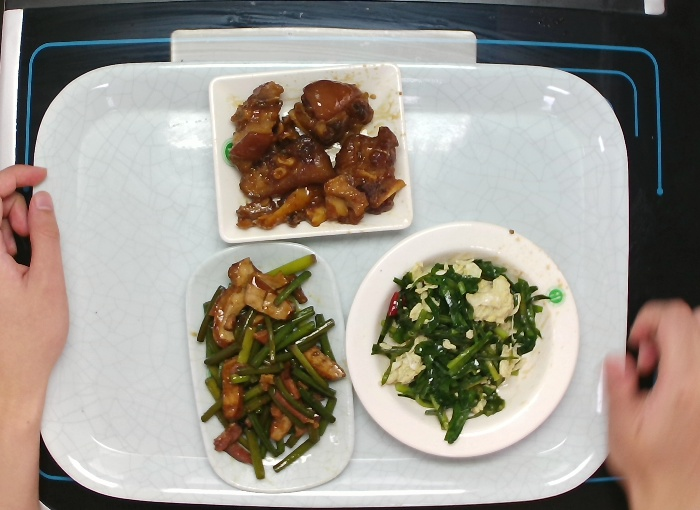WCQzf-Bai_Se_Si_Fang_Die: (204, 59, 417, 246)
WCQzf-Kuan_Bian_Yuan_Die: (340, 216, 588, 460)
WCQzf-Tuo_Yuan_Pan: (180, 237, 361, 495)
